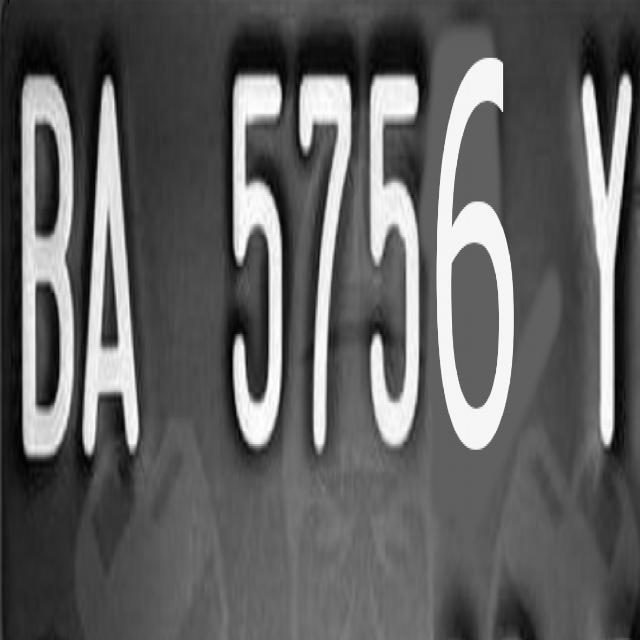5: (223, 63, 291, 458), (366, 60, 430, 458)
6: (433, 60, 527, 456)
7: (293, 60, 351, 458)
A: (76, 70, 158, 469)
B: (8, 71, 80, 473)
Y: (570, 68, 640, 470)
